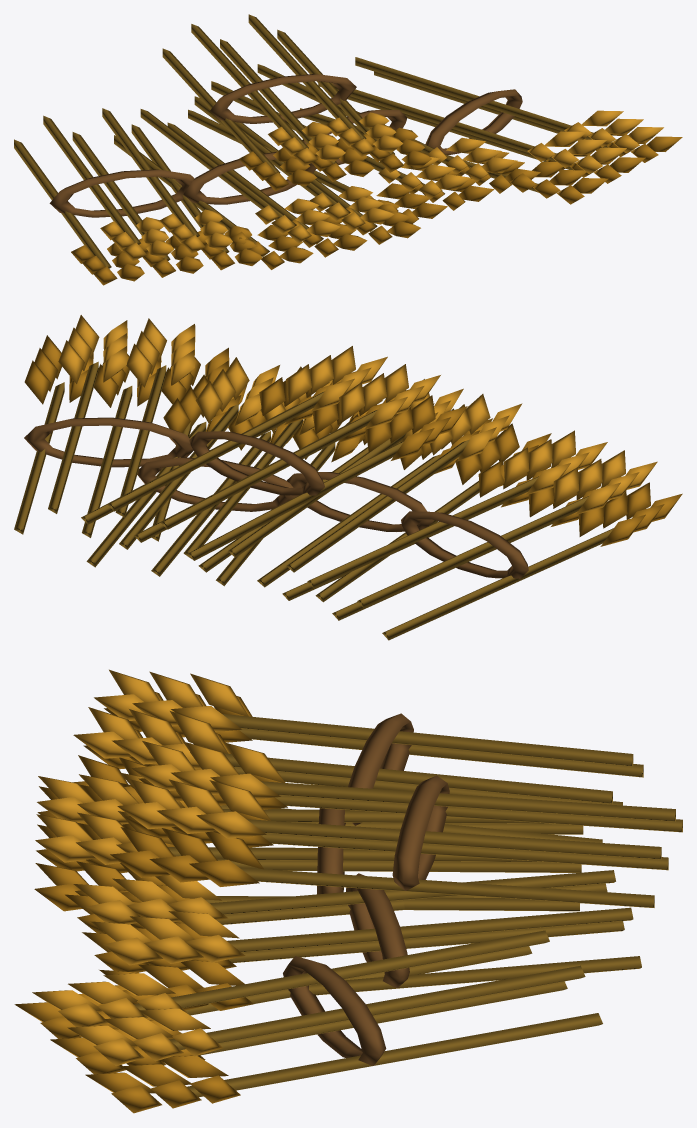
Rendered from pile-rice-5.obj.
3 views of the same model, one above another, from view 1: azimuth 30°, elevation 25°; view 2: azimuth 150°, elevation 25°; view 3: azimuth 270°, elevation 25° (orthographic). The views are drawn at different scales.
Parts seen in each view (by area): view 1: pile-rice-5; view 2: pile-rice-5; view 3: pile-rice-5.
Boxes of the visible parts, left/top/right/bottom form: pile-rice-5: left=14, top=14, right=682, bottom=285; pile-rice-5: left=14, top=315, right=682, bottom=640; pile-rice-5: left=14, top=669, right=682, bottom=1113.
Size of the model in its own units: 0.7921 by 0.1202 by 0.5408.
1 material, 1 textured.
